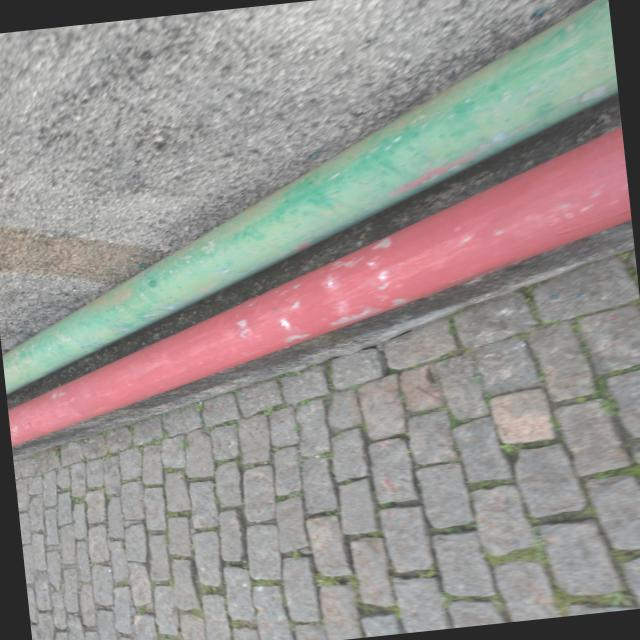gas: (4, 0, 617, 391), (9, 128, 626, 446)
